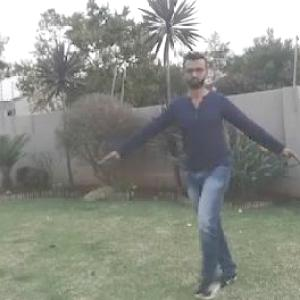land: (138, 64, 278, 236)
